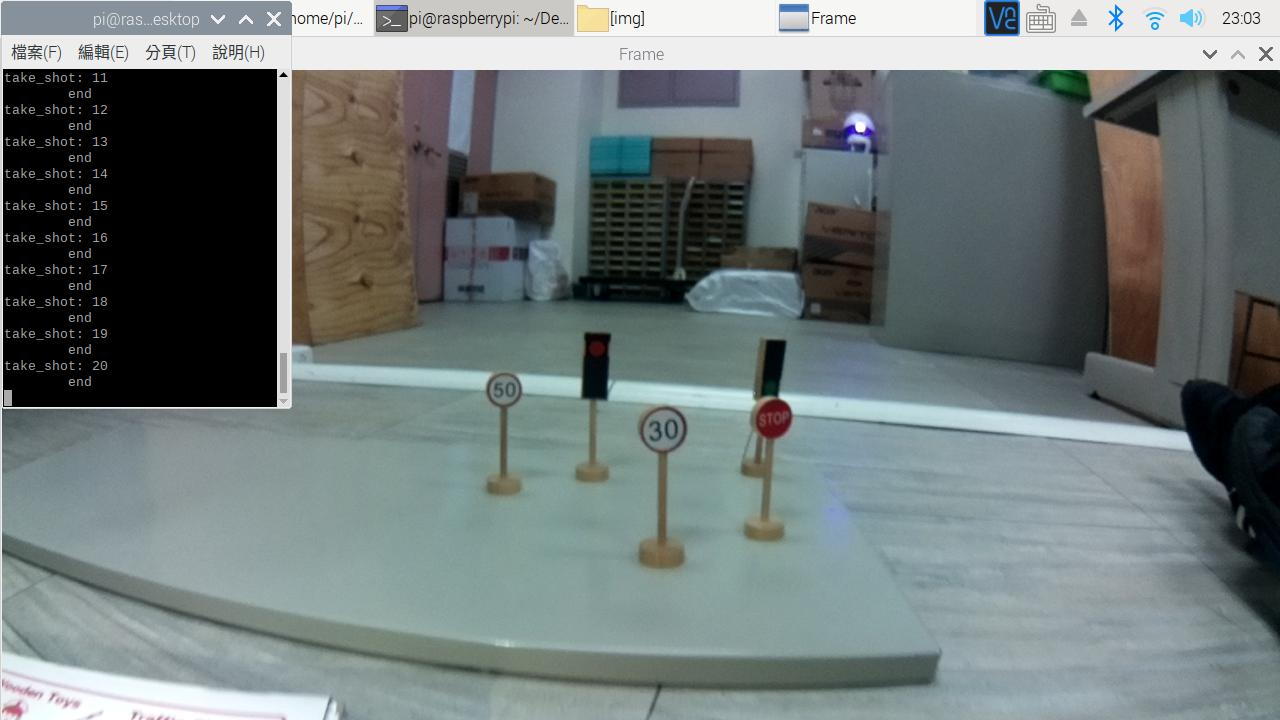Green: (757, 336, 784, 400)
Red: (580, 334, 610, 403)
Speed30: (632, 403, 696, 456)
Speed50: (480, 368, 527, 404)
Stop: (751, 404, 796, 438)
